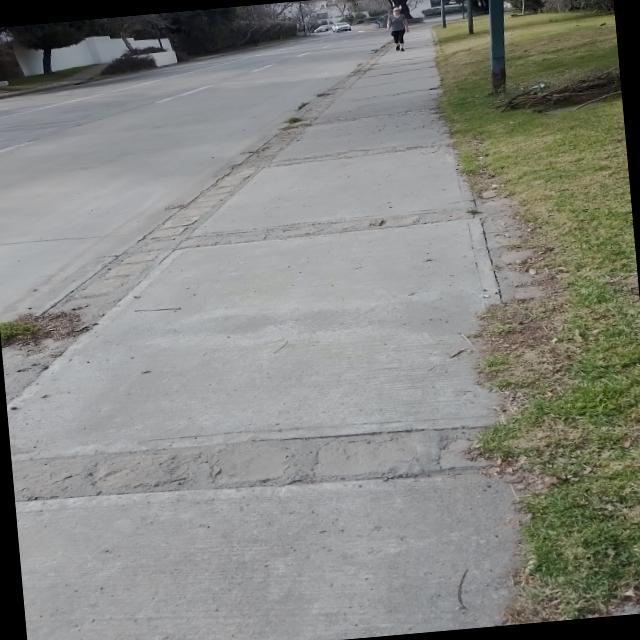person: (382, 4, 413, 54)
